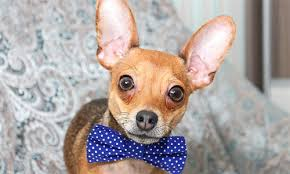chihuahua: (62, 1, 244, 174)
